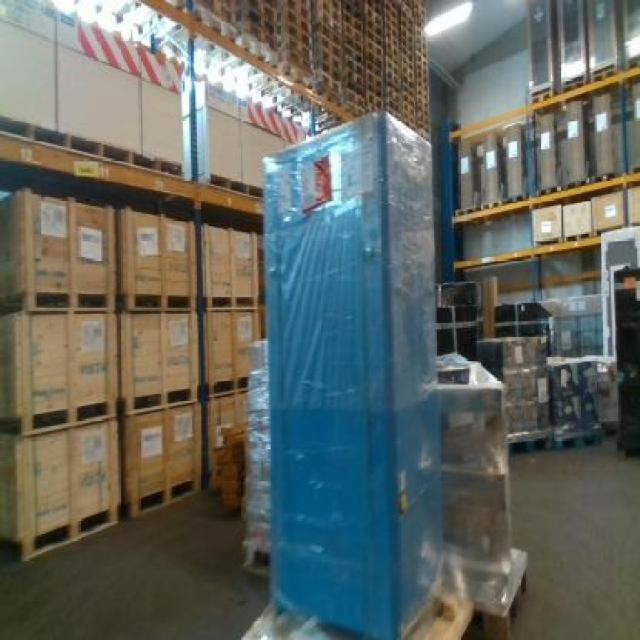ground: (0, 495, 271, 638), (509, 443, 638, 638)
pallet: (0, 109, 187, 183), (0, 501, 126, 567), (469, 544, 536, 638), (228, 605, 403, 638), (0, 395, 121, 438), (122, 471, 204, 522), (0, 286, 118, 315), (403, 595, 478, 638), (118, 384, 204, 416), (454, 192, 530, 217), (122, 290, 195, 315), (242, 538, 276, 584), (557, 421, 605, 452), (509, 430, 555, 458), (201, 291, 262, 310), (204, 373, 251, 397), (526, 86, 558, 106), (559, 72, 587, 94), (589, 61, 616, 83), (534, 183, 559, 197)
